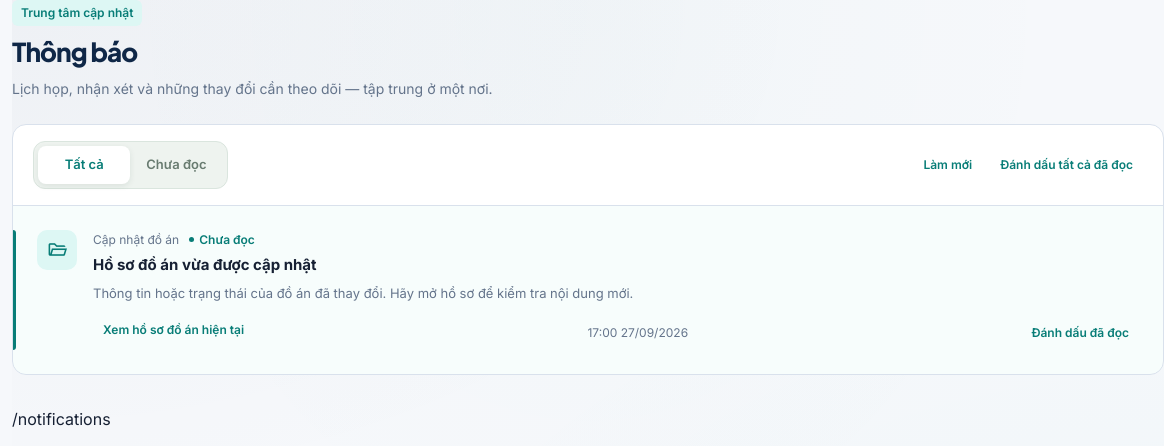
it: NotificationsPage › does not drop a destination read while a bulk read is pending
The image size is (1164, 446).
Click the button "Đánh dấu tất cả đã đọc": (1067, 165) [990,147,1143,183]
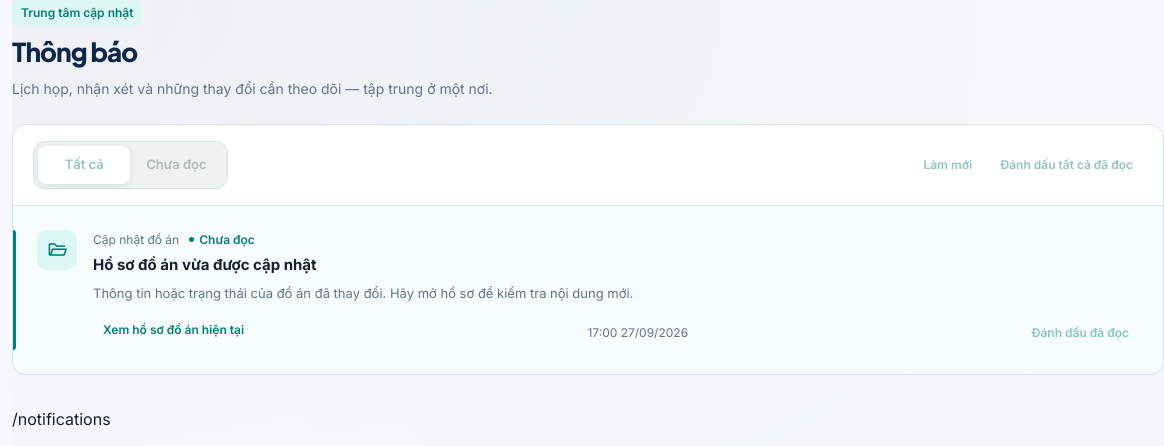
Click the link "Xem hồ sơ đồ án hiện tại": (174, 330) [103,322,244,337]
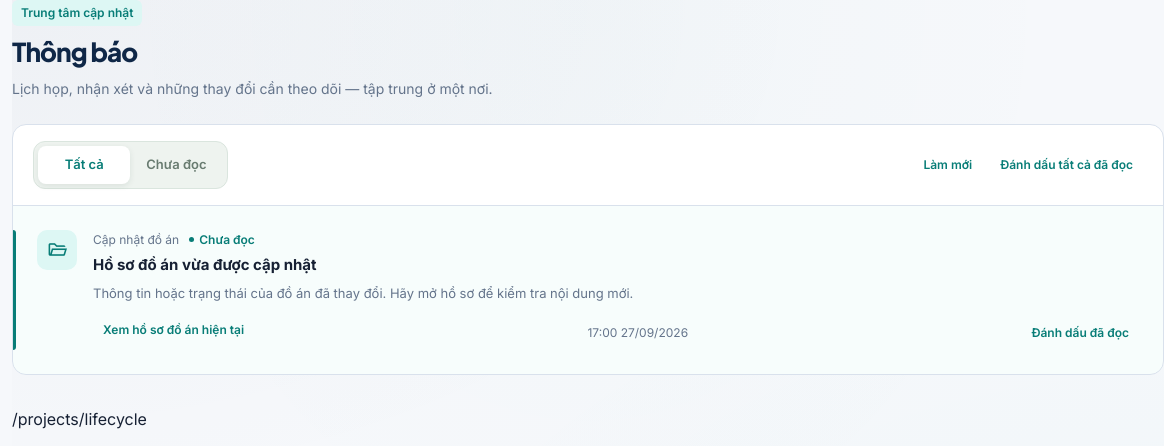
Expected: the text named "Đường dẫn hiện tại" reads "/projects/lifecycle", [12,409,147,429]
